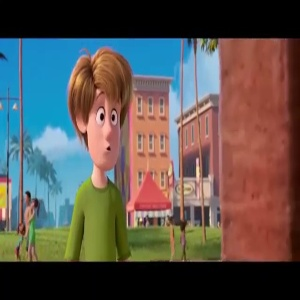Shagy: (66, 40, 135, 175)
